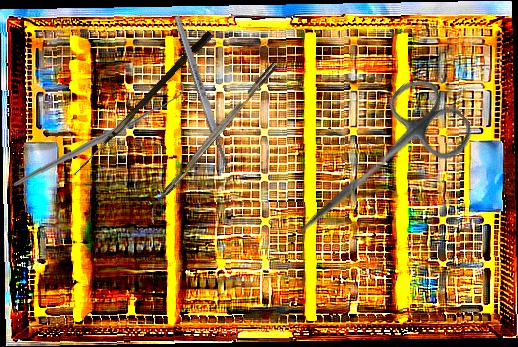Chopper: (141, 62, 285, 224)
Hook Surgical: (73, 27, 214, 183), (11, 77, 186, 193)
Iris Scissors: (274, 68, 481, 267)
Scalpel Handle: (172, 13, 231, 169)
